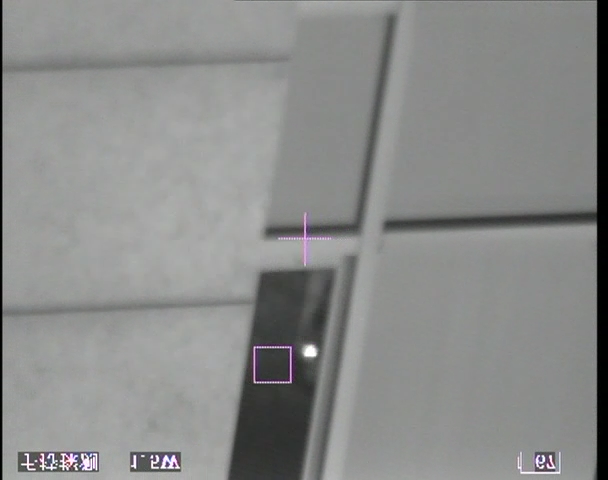my: (302, 343, 318, 358)
